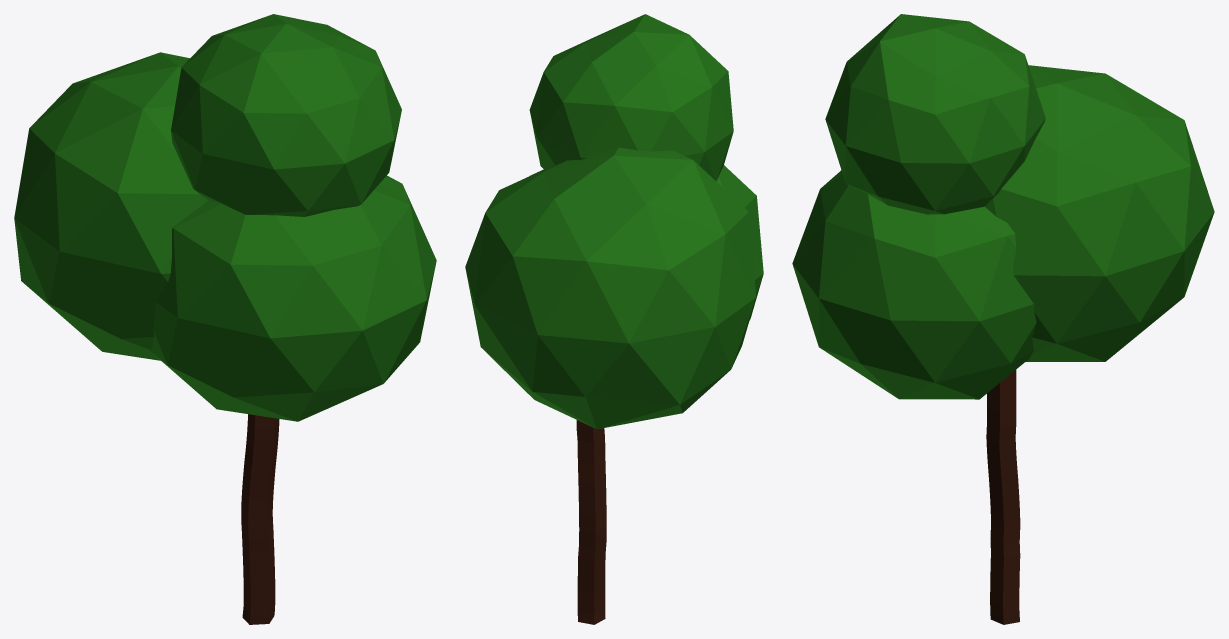
The model's file is Baum.fbx.
The picture shows the model from 3 angles, left to right: view 1: azimuth 30°, elevation 25°; view 2: azimuth 150°, elevation 25°; view 3: azimuth 270°, elevation 25°; orthographic projection. The views are drawn at different scales.
Visible parts, largest first — view 1: GeoSphere002; view 2: GeoSphere002; view 3: GeoSphere002.
Boxes of the visible parts, x1,y1,x2,y2 form: GeoSphere002: (14,14,436,624); GeoSphere002: (465,14,763,624); GeoSphere002: (792,14,1214,624).
Size of the model in its own units: 145 by 281 by 183.
